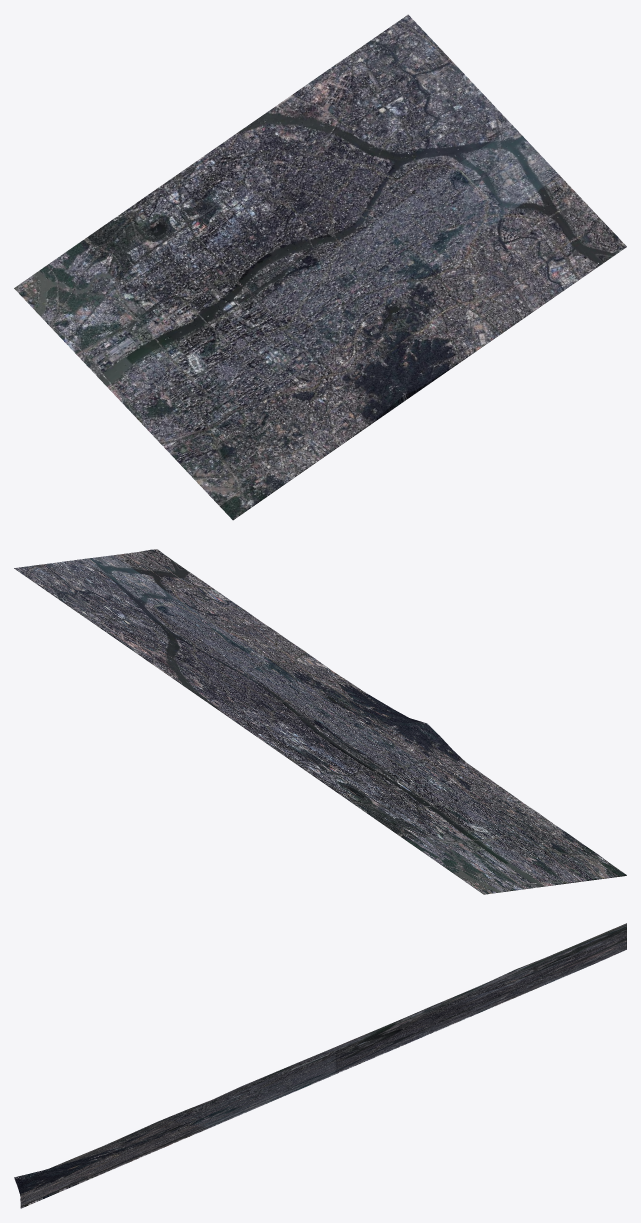
3 renders of one model, top to bottom at view 1: azimuth 30°, elevation 25°; view 2: azimuth 150°, elevation 25°; view 3: azimuth 270°, elevation 25°, orthographic. The views are drawn at different scales.
Parts seen in each view (by area): view 1: 5_0_0; view 2: 5_0_0; view 3: 5_0_0.
Boxes of the visible parts, x1=… form: 5_0_0: x1=14, y1=14, x2=626, y2=520; 5_0_0: x1=14, y1=549, x2=626, y2=894; 5_0_0: x1=14, y1=923, x2=626, y2=1208.
Bounding box in the file's own units: 18620 × 11954 × 12449.
Materials: 1 (1 with a texture image).
